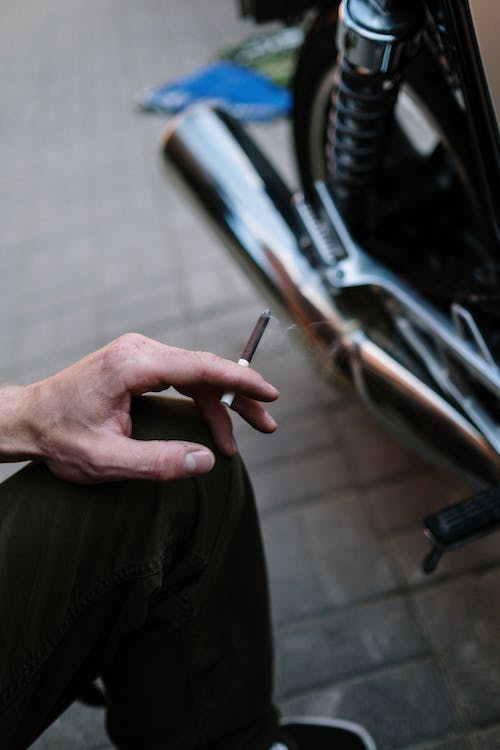cigarette: (217, 304, 272, 411)
